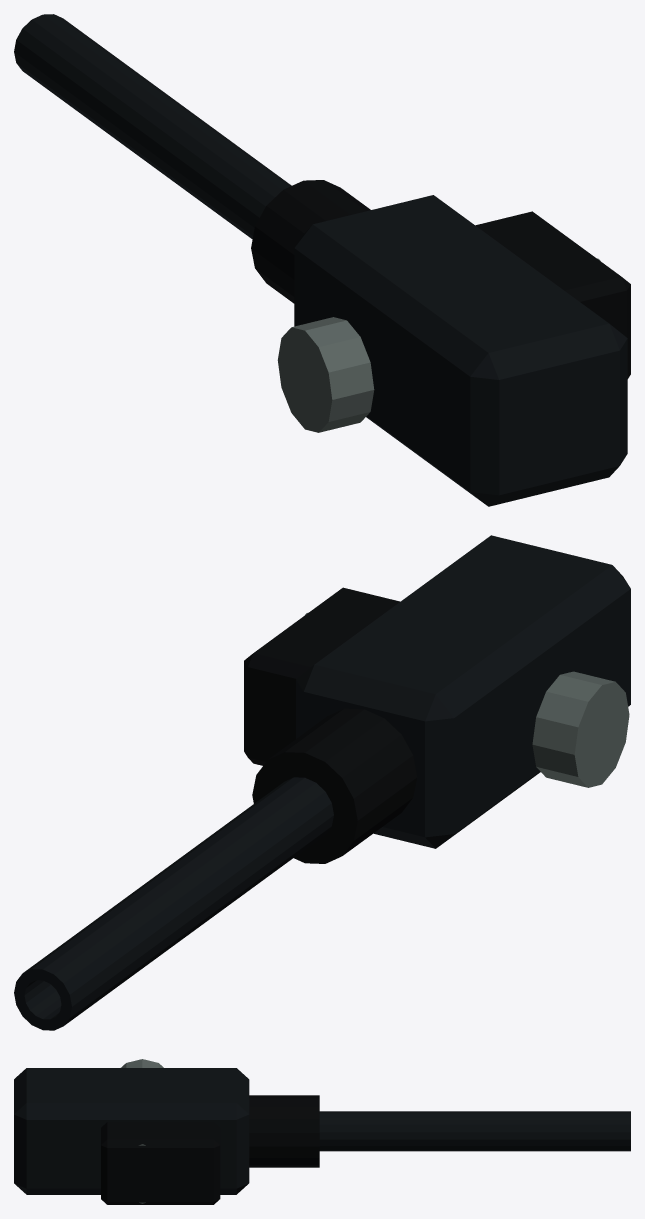
Rendered from Cannon30__Pitch.obj.
3 renders of one model, top to bottom at view 1: azimuth 30°, elevation 25°; view 2: azimuth 150°, elevation 25°; view 3: azimuth 270°, elevation 25°, orthographic. The views are drawn at different scales.
Visible parts, largest first — view 1: Chain_gun_receiver, Single_cannon_barrel, Elevation_trunnion, Chain_drive_housing, Barrel_cooling_collar; view 2: Chain_gun_receiver, Single_cannon_barrel, Barrel_cooling_collar, Chain_drive_housing, Elevation_trunnion; view 3: Chain_gun_receiver, Single_cannon_barrel, Chain_drive_housing, Barrel_cooling_collar, Elevation_trunnion.
Boxes of the visible parts, <box> form: Chain_gun_receiver: <box>294,195,627,506</box>; Single_cannon_barrel: <box>14,14,291,239</box>; Elevation_trunnion: <box>277,317,374,432</box>; Chain_drive_housing: <box>475,211,630,378</box>; Barrel_cooling_collar: <box>251,180,370,303</box>; Chain_gun_receiver: <box>296,535,630,848</box>; Single_cannon_barrel: <box>14,777,333,1030</box>; Barrel_cooling_collar: <box>252,708,417,863</box>; Chain_drive_housing: <box>244,587,399,765</box>; Elevation_trunnion: <box>532,671,629,787</box>; Chain_gun_receiver: <box>14,1068,249,1194</box>; Single_cannon_barrel: <box>319,1111,630,1151</box>; Chain_drive_housing: <box>101,1122,220,1204</box>; Barrel_cooling_collar: <box>249,1095,319,1167</box>; Elevation_trunnion: <box>121,1059,163,1067</box>.
Size of the model in its own units: 0.565 by 0.28 by 1.71.
